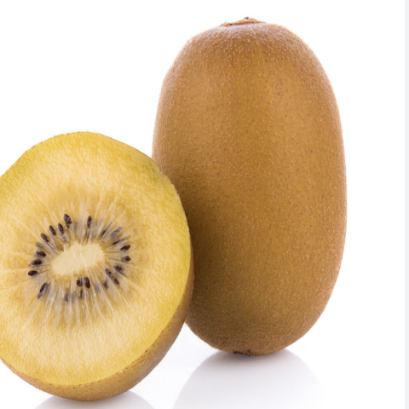kiwi: (119, 4, 384, 394)
